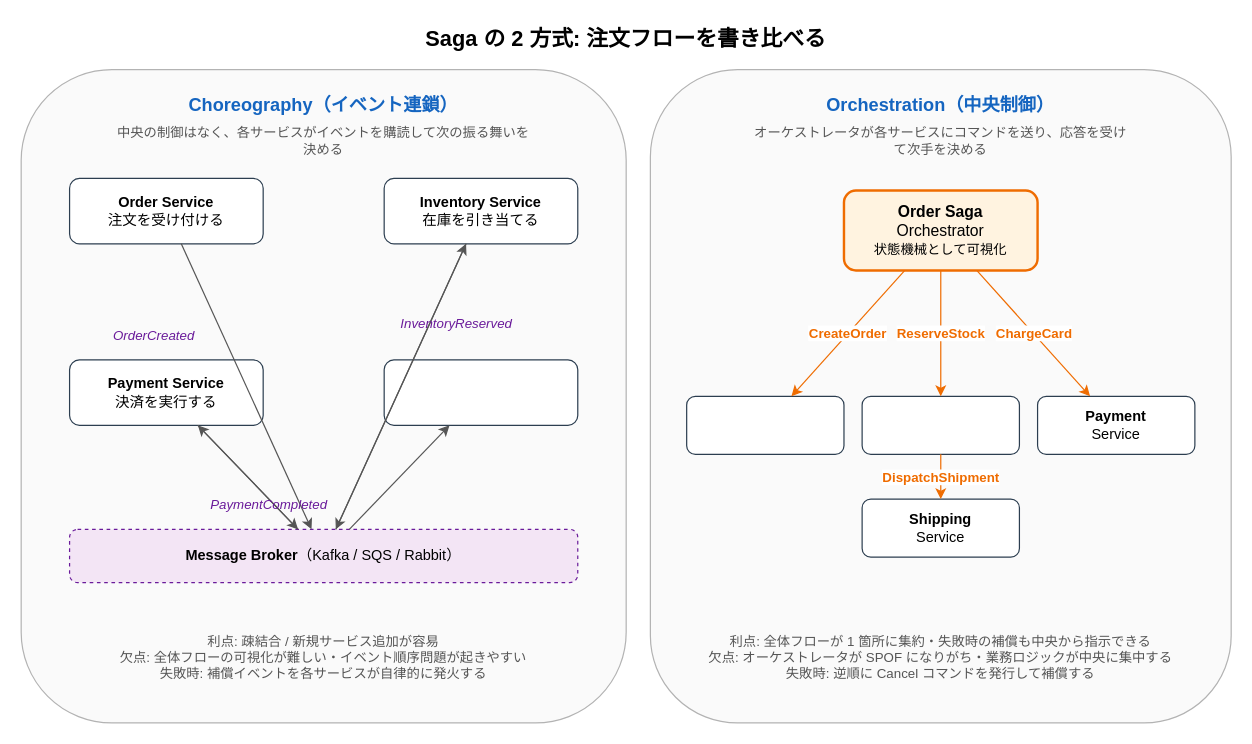
The diagram is 1252 pixels wide and 744 high, and some of its shapes have lost their labels. Each missing label, with the box of its shape:
Inventory Service: (861, 395, 1019, 454)
Order Service: (685, 395, 844, 454)
Shipping Service 配送を手配する: (383, 359, 578, 425)
